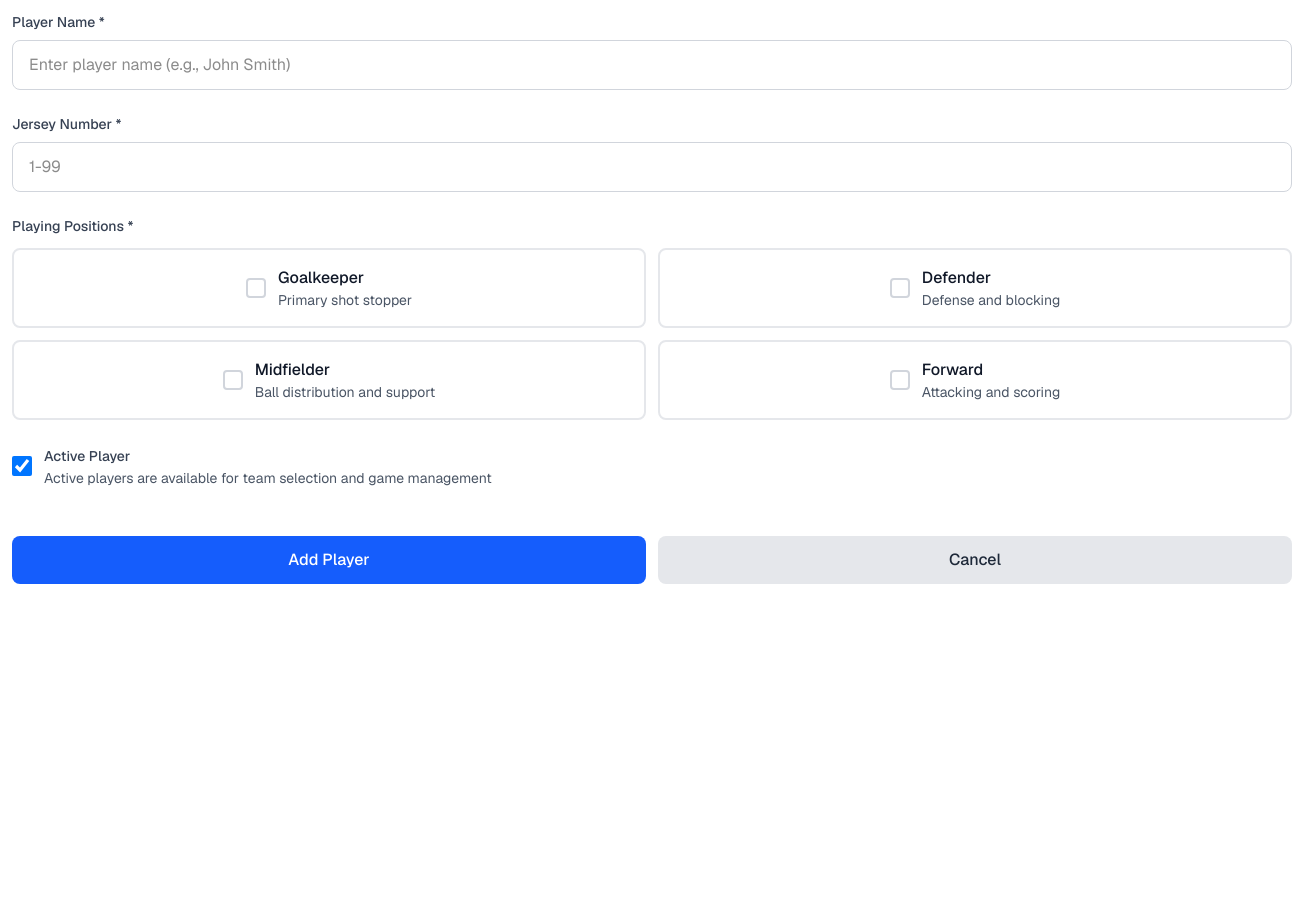
Scenario: PlayerSetup Component › PlayerForm Component › should validate player name length
Type "A" into the field labelled "Player Name *". click: [652, 65]
box: [12, 40, 1292, 90]
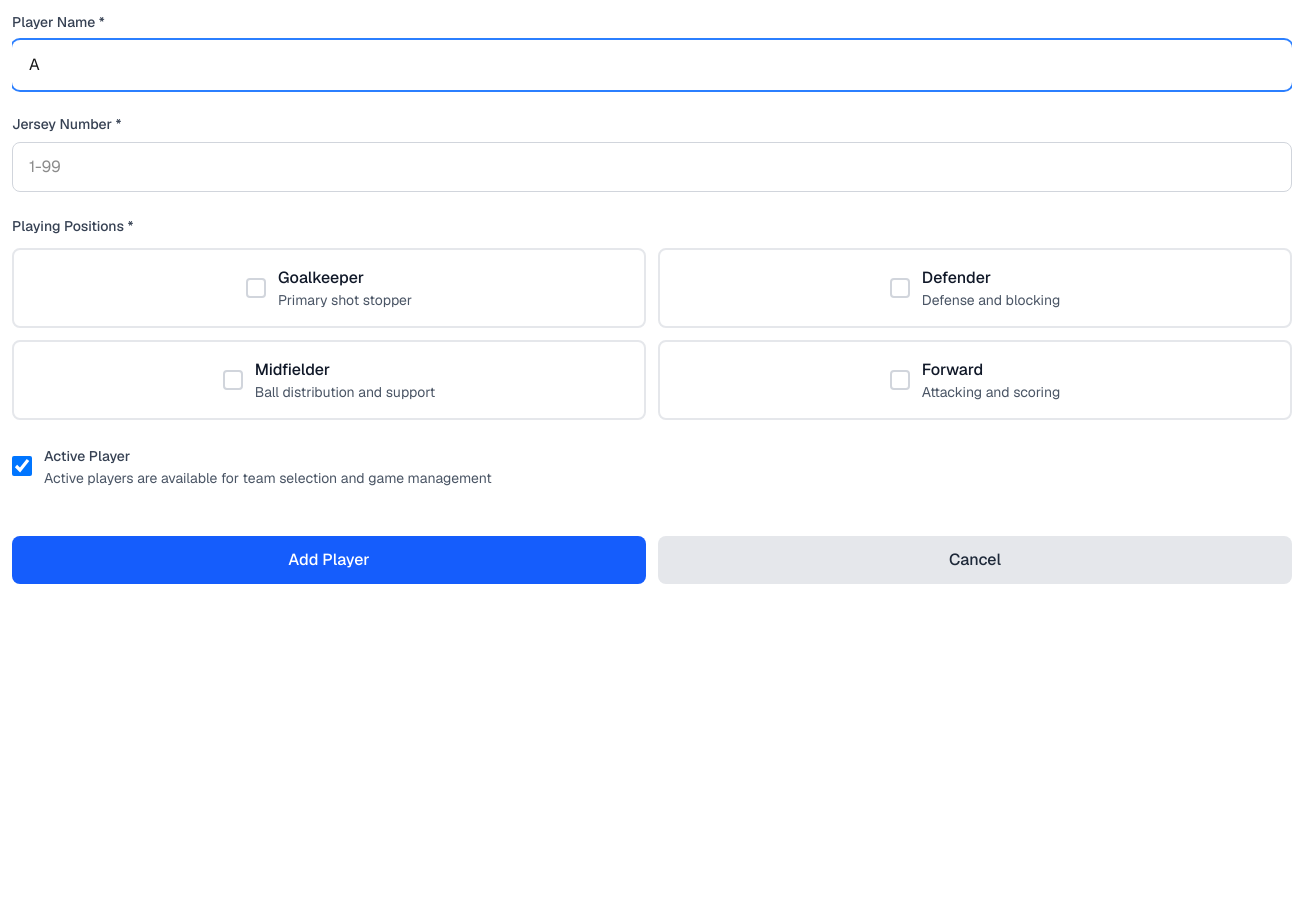
Click the button "Add Player". click: [329, 560]
box: [12, 536, 646, 584]
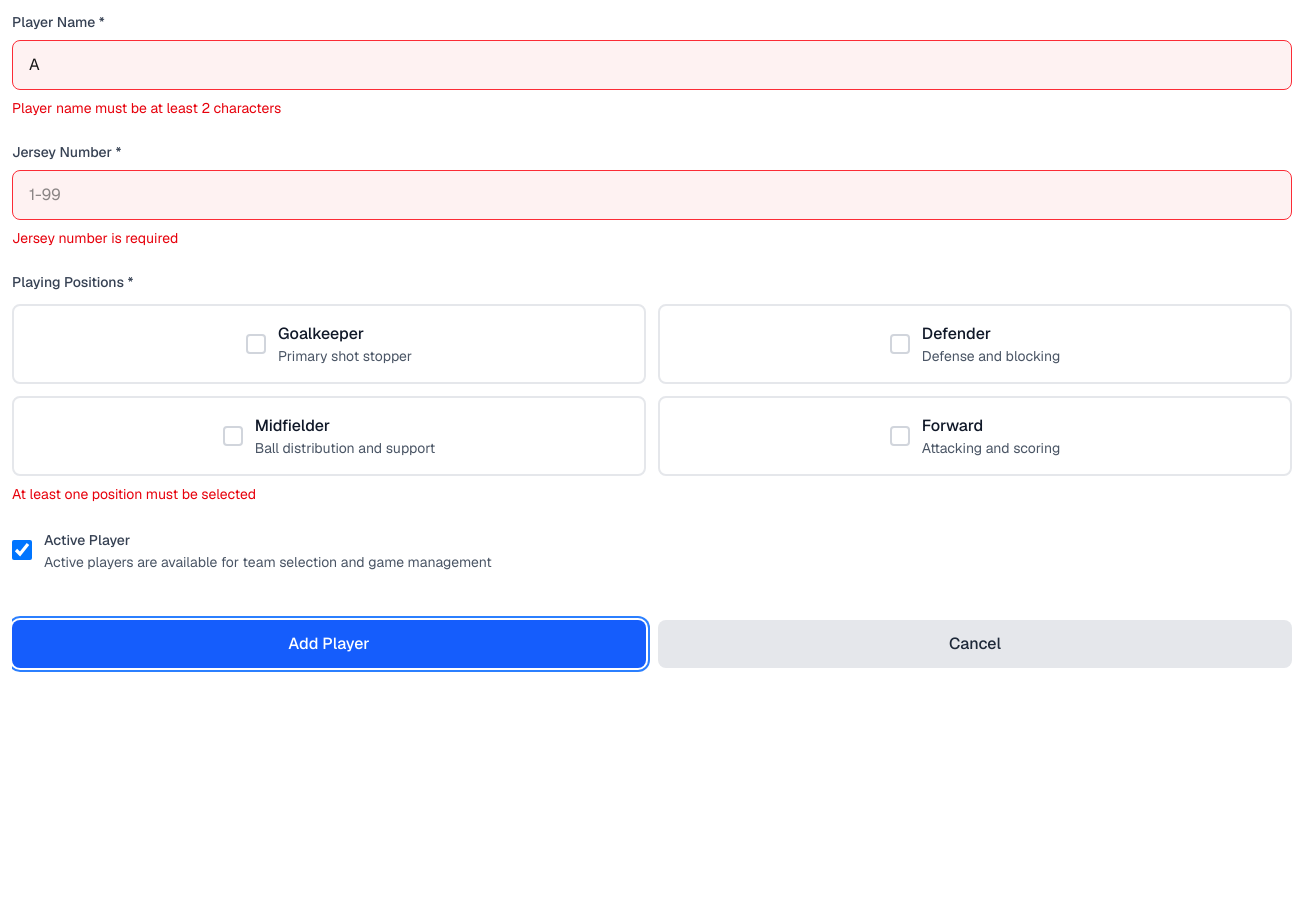
Result: the text "Player name must be at least 2 characters" is shown at [12, 99, 281, 117]
